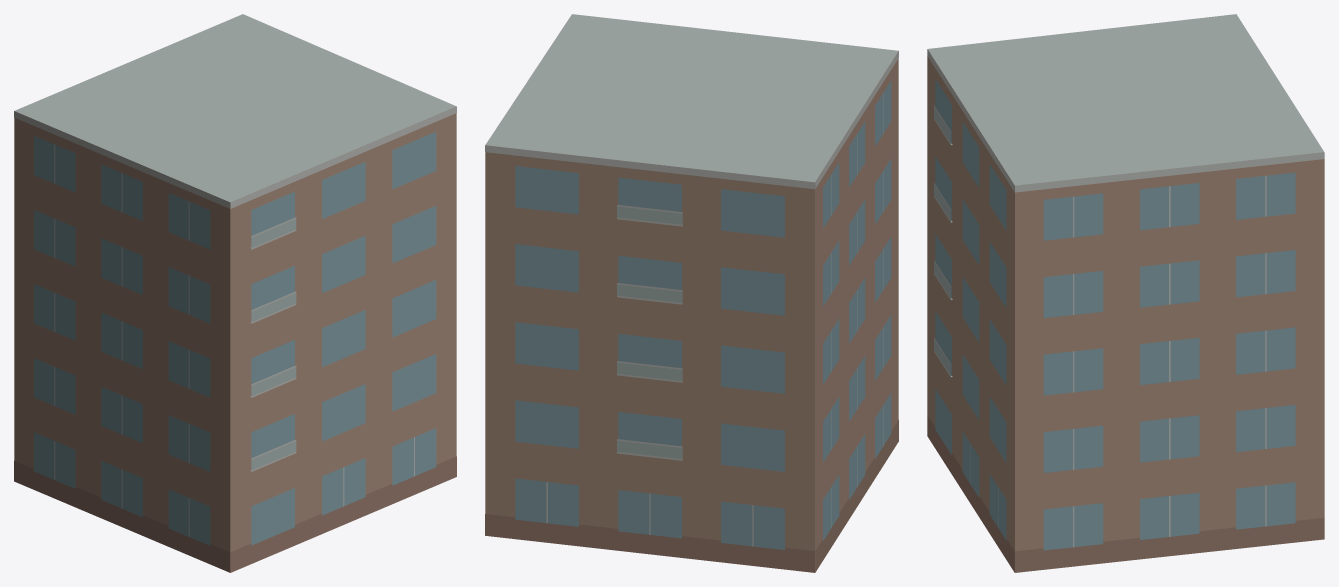
Rendered from survey-upis-32661282.glb.
The picture shows the model from 3 angles, left to right: view 1: azimuth 30°, elevation 25°; view 2: azimuth 150°, elevation 25°; view 3: azimuth 270°, elevation 25°; orthographic projection. The views are drawn at different scales.
Visible parts, largest first — view 1: survey-upis-32661282.tmp; view 2: survey-upis-32661282.tmp; view 3: survey-upis-32661282.tmp.
Part boxes in pixels (x1,y1,x2,y2): survey-upis-32661282.tmp: (14,14,456,572); survey-upis-32661282.tmp: (485,14,898,572); survey-upis-32661282.tmp: (927,14,1324,572).
Bounding box in the file's own units: 13.13 × 13.8 × 12.84.
